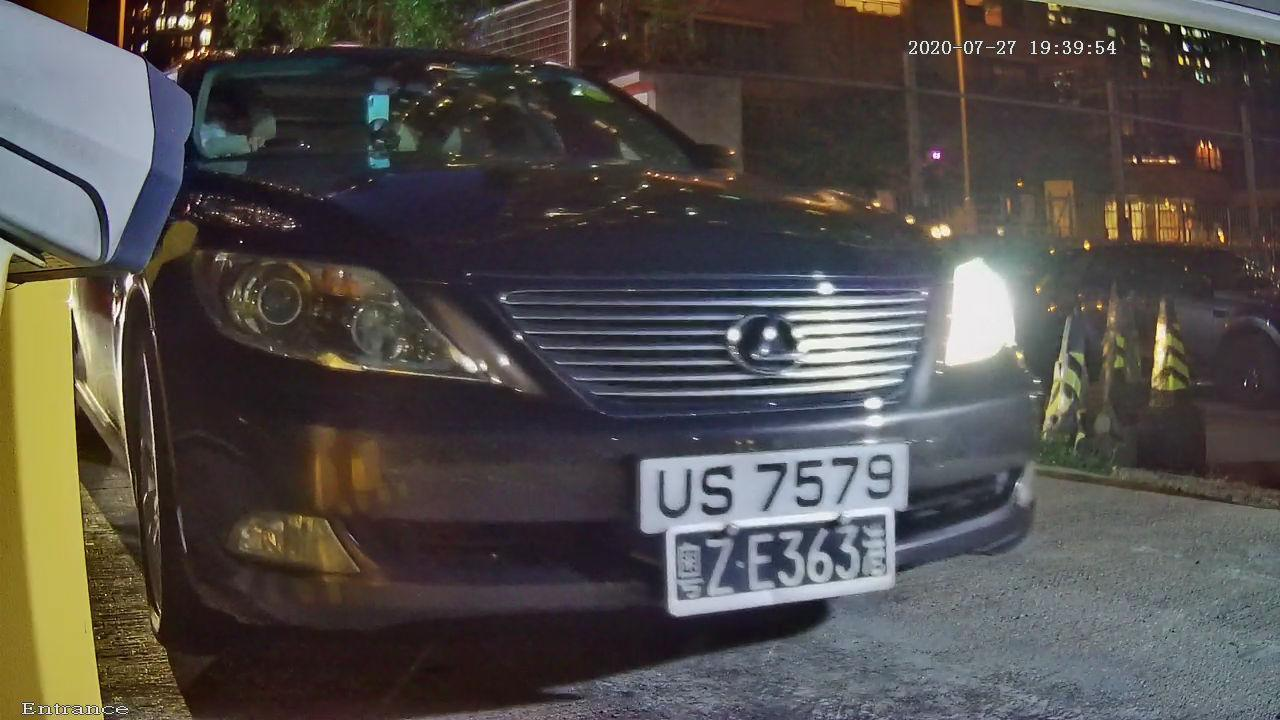privatecar: (63, 26, 1143, 656)
